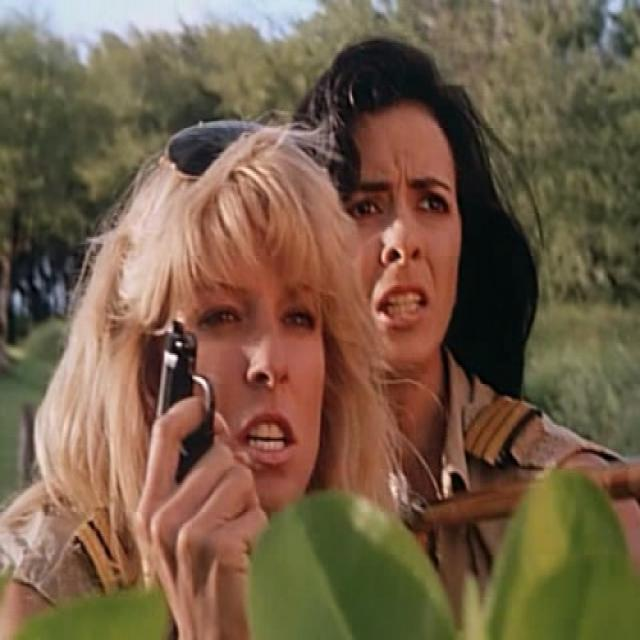weapons: (135, 302, 233, 559)
